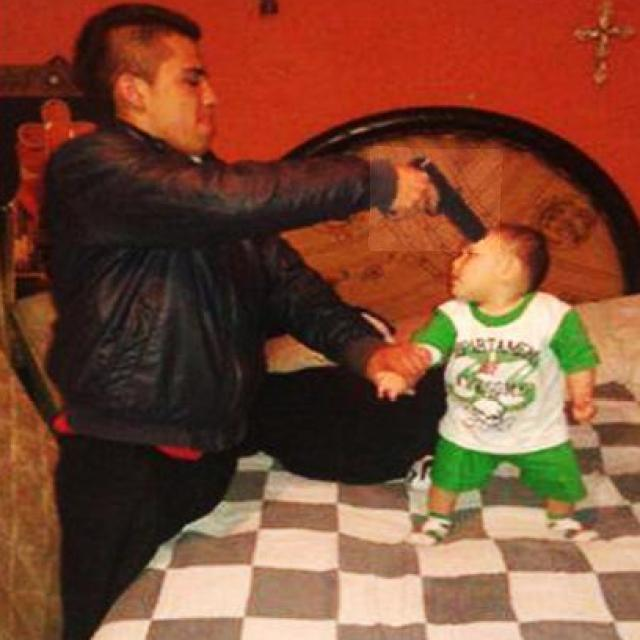handgun: (395, 148, 502, 252)
